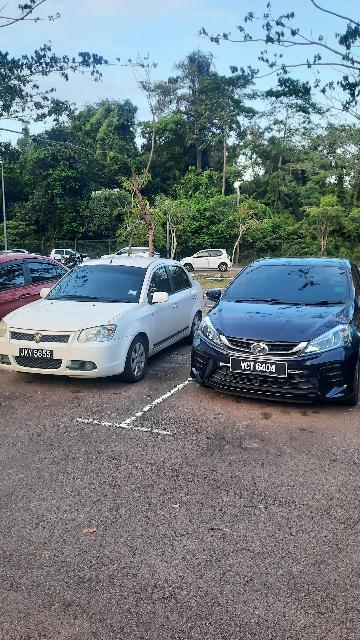License_Plate: (230, 355, 291, 379), (18, 348, 56, 360)
car: (6, 247, 209, 388), (191, 254, 360, 409)
